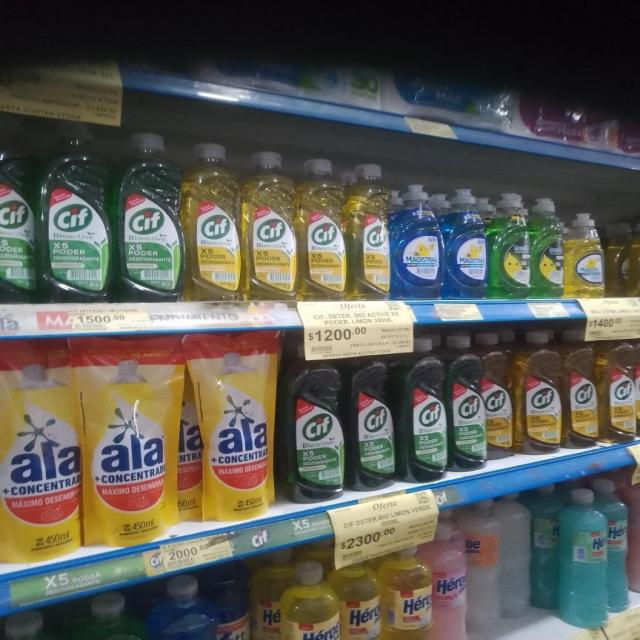ala_sachet_amarillo: (82, 334, 197, 545), (0, 338, 81, 564), (194, 332, 278, 522)
cif_conc_bot_amarilla: (184, 140, 240, 302), (242, 149, 296, 301), (298, 156, 346, 301), (515, 330, 562, 456), (347, 162, 389, 300), (563, 328, 598, 450), (599, 328, 635, 444), (482, 331, 514, 461), (634, 328, 640, 443)
cif_conc_botella_verde: (40, 123, 113, 304), (116, 130, 182, 304), (283, 342, 345, 503), (399, 336, 447, 483), (348, 345, 396, 492), (0, 115, 36, 305), (448, 333, 485, 473)
heroe: (558, 486, 612, 628), (282, 559, 339, 640), (382, 545, 430, 640), (431, 523, 468, 640), (338, 559, 381, 640), (250, 556, 284, 640)
magistral_con_amarillo: (566, 212, 604, 299), (606, 218, 630, 298), (630, 219, 640, 297)
magistral_con_azul: (391, 183, 442, 300), (445, 187, 488, 301)
